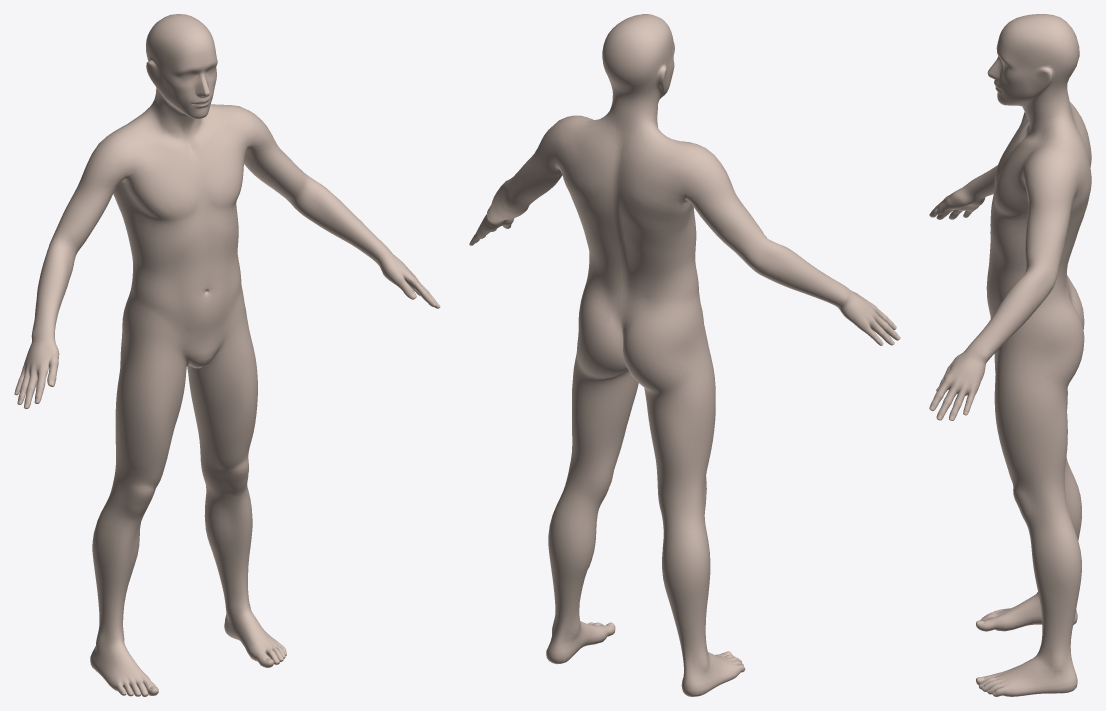
The model's file is metaformaRig.fbx.
3 views of the same model, side by side, from view 1: azimuth 30°, elevation 25°; view 2: azimuth 150°, elevation 25°; view 3: azimuth 270°, elevation 25° (orthographic).
Parts seen in each view (by area): view 1: Avatar; view 2: Avatar; view 3: Avatar.
Boxes of the visible parts, x1,y1,x2,y2 form: Avatar: (14,14,440,696); Avatar: (469,14,900,696); Avatar: (929,14,1091,696).
Size of the model in its own units: 128 by 189 by 43.33.
